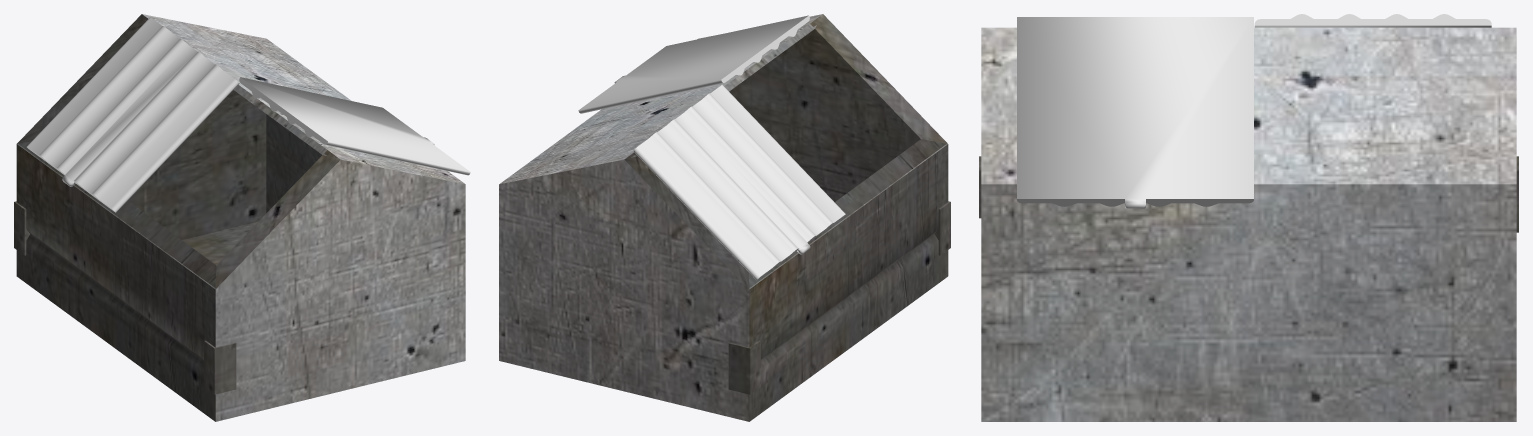
File: GarbageBigThingOne.fbx
3 renders of one model, left to right at view 1: azimuth 30°, elevation 25°; view 2: azimuth 150°, elevation 25°; view 3: azimuth 270°, elevation 25°, orthographic. The views are drawn at different scales.
Visible parts, largest first — view 1: recclbel001, Box184, Box183; view 2: recclbel001, Box184, Box183; view 3: recclbel001, Box183, Box184.
Part boxes in pixels (x1,y1,x2,y2): recclbel001: (14,14,465,421); Box184: (27,17,239,212); Box183: (239,77,470,175); recclbel001: (499,14,950,421); Box184: (633,84,845,280); Box183: (578,15,809,113); recclbel001: (979,27,1518,421); Box183: (1017,17,1253,208); Box184: (1254,14,1491,27).
Size of the model in its own units: 3.51 by 2.9 by 4.4.
